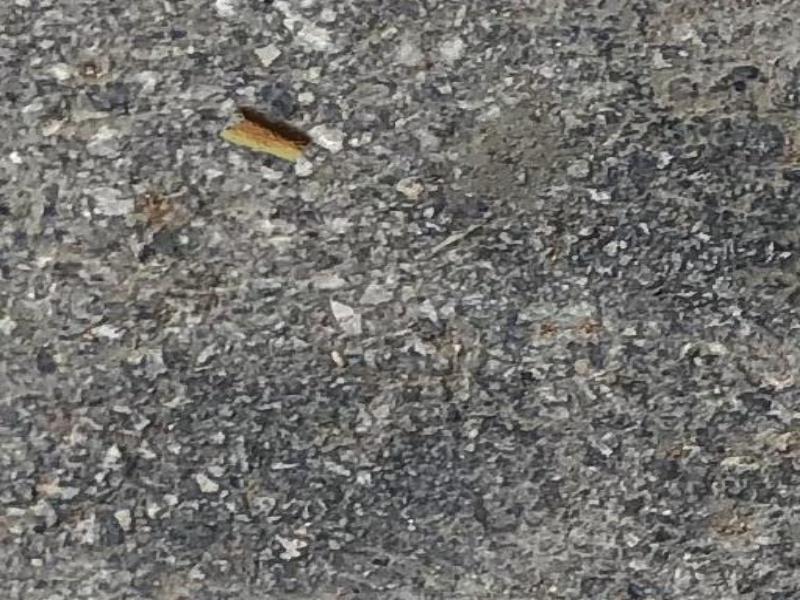cig: (220, 116, 319, 170)
